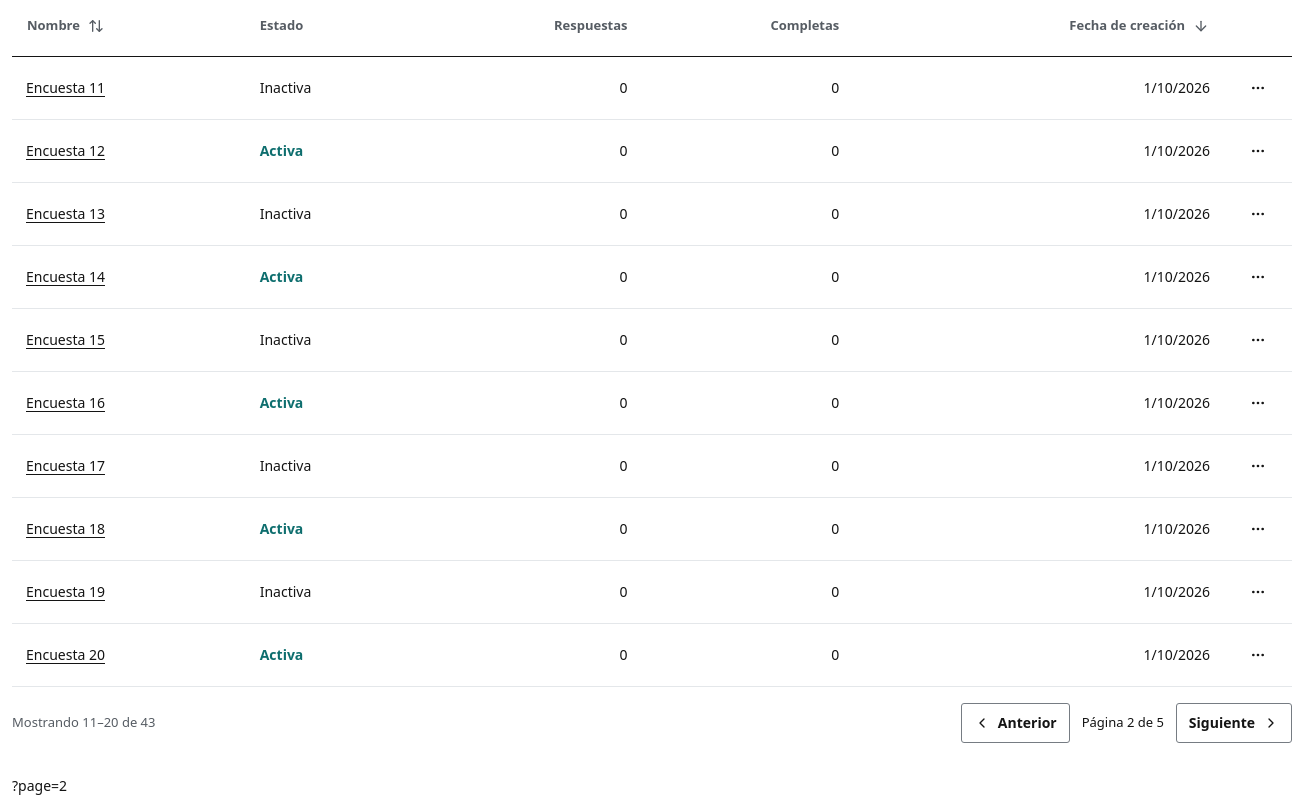
Test: Paginated, searchable, filterable list (REQ-FE-018) › AC-FE-018-5: pagination with meta.total = 43 on page 2
(page scrolled)
Check: the text "Mostrando 11–20 de 43" is shown, box x1=12 y1=713 x2=156 y2=732
Check: the text "Página 2 de 5" is shown, box x1=1078 y1=713 x2=1168 y2=732
Click the button "Siguiente".
click(1234, 723)  # box x1=1176 y1=703 x2=1292 y2=743
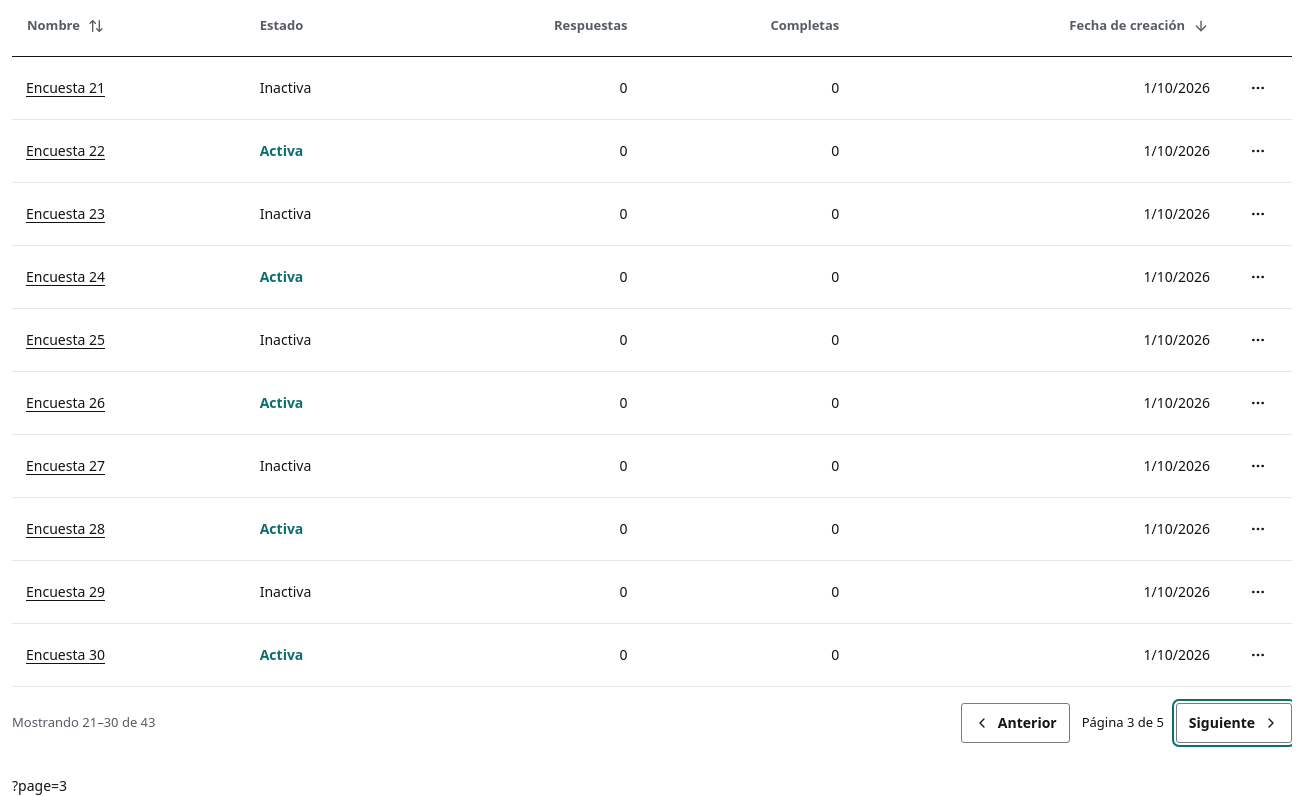
Check: the text "Mostrando 21–30 de 43" is shown, box x1=12 y1=713 x2=156 y2=732
Check: the text with test id "location" reads "?page=3", box x1=12 y1=776 x2=67 y2=795
Click the button "Anterior".
click(1015, 723)  # box x1=961 y1=703 x2=1070 y2=743
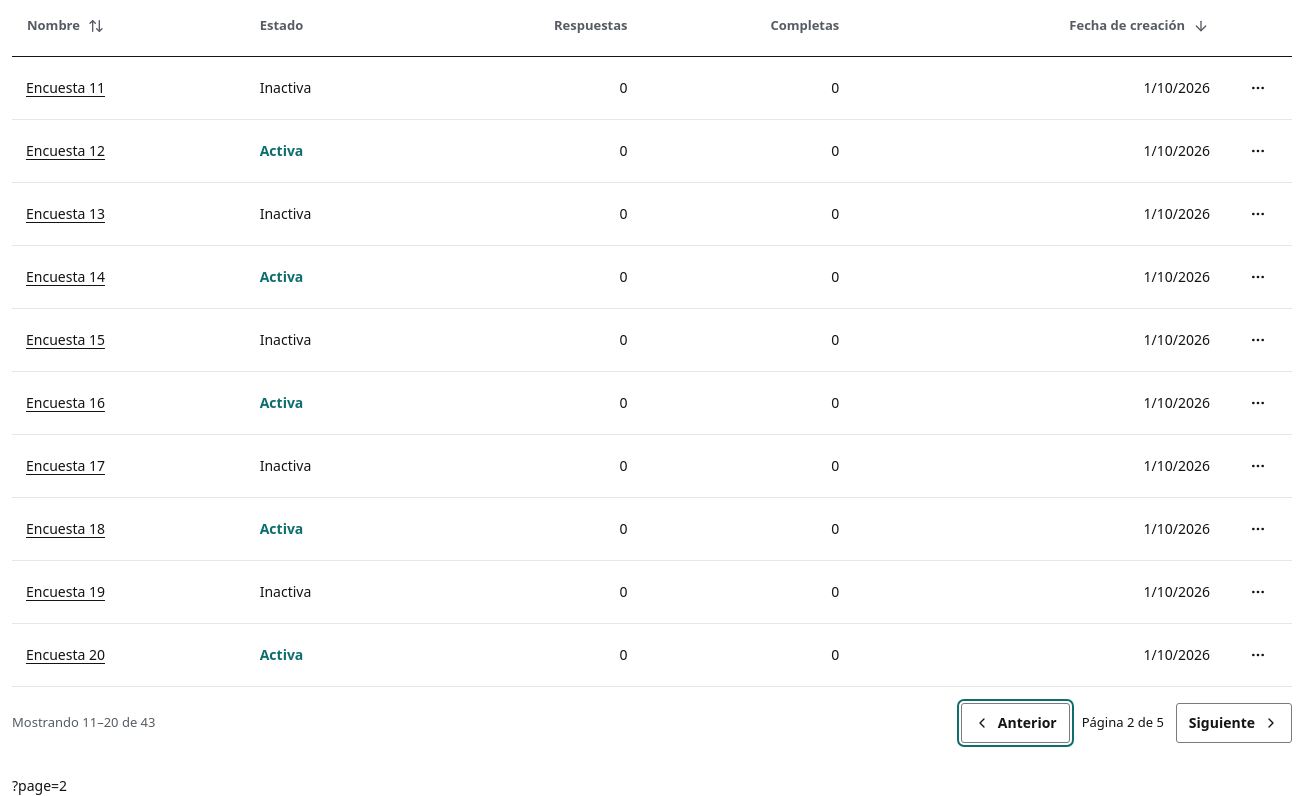
Click the button "Anterior".
click(1015, 723)  # box x1=961 y1=703 x2=1070 y2=743
(page scrolled)
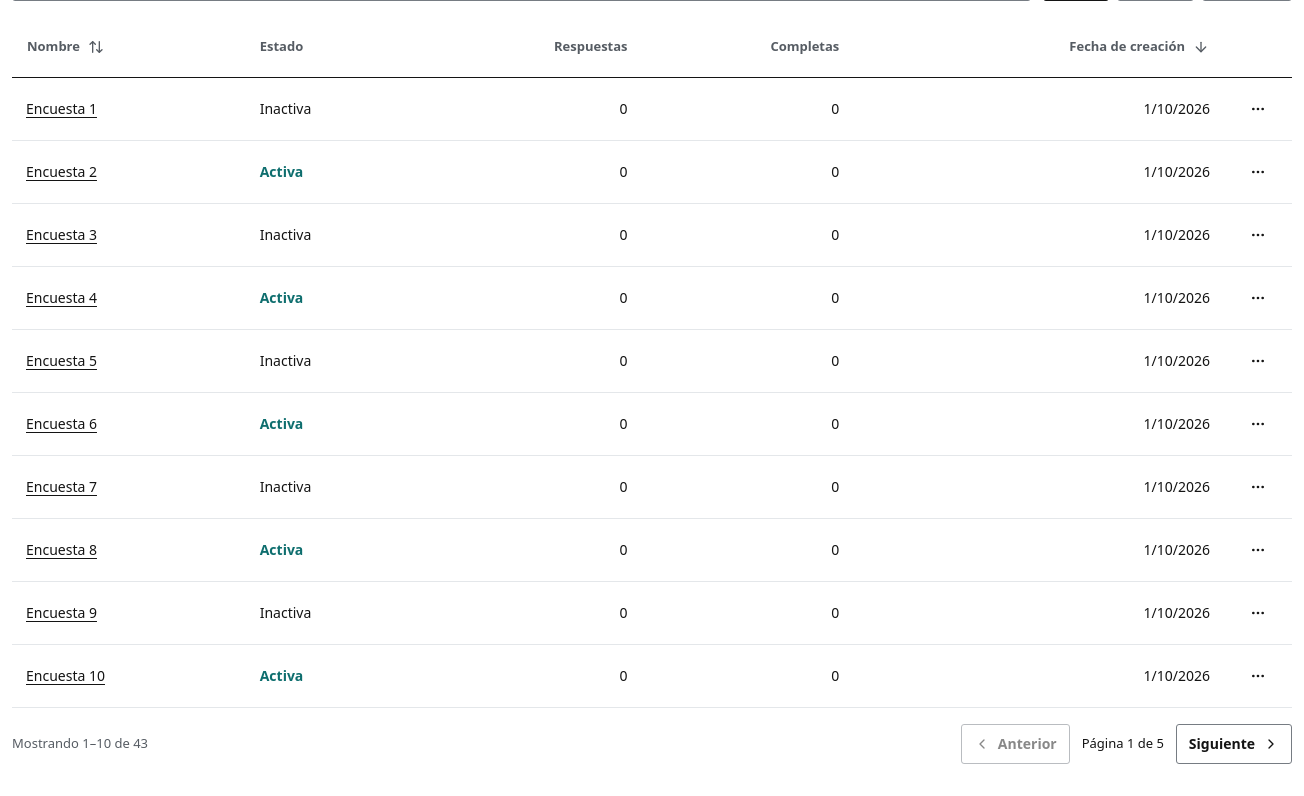
Check: the text "Mostrando 1–10 de 43" is shown, box x1=12 y1=734 x2=148 y2=753
